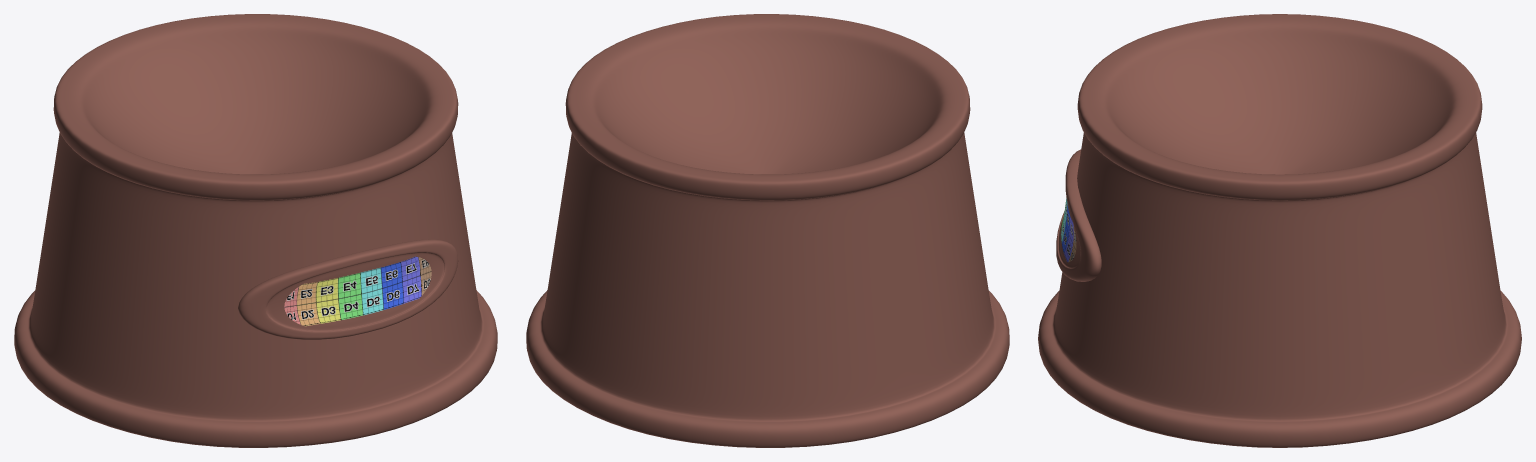
The model's file is snowglobe.glb.
The picture shows the model from 3 angles, left to right: view 1: azimuth 30°, elevation 25°; view 2: azimuth 150°, elevation 25°; view 3: azimuth 270°, elevation 25°; orthographic projection.
Visible parts, largest first — view 1: body, NameTag; view 2: body; view 3: body, NameTag.
Boxes of the visible parts, left/top/right/bottom form: body: left=14, top=14, right=497, bottom=447; NameTag: left=238, top=239, right=458, bottom=339; body: left=526, top=14, right=1009, bottom=447; body: left=1038, top=14, right=1521, bottom=447; NameTag: left=1056, top=149, right=1101, bottom=281.
Size of the model in its own units: 4.67 by 2.67 by 4.67.
Materials: 1 (1 with a texture image).
